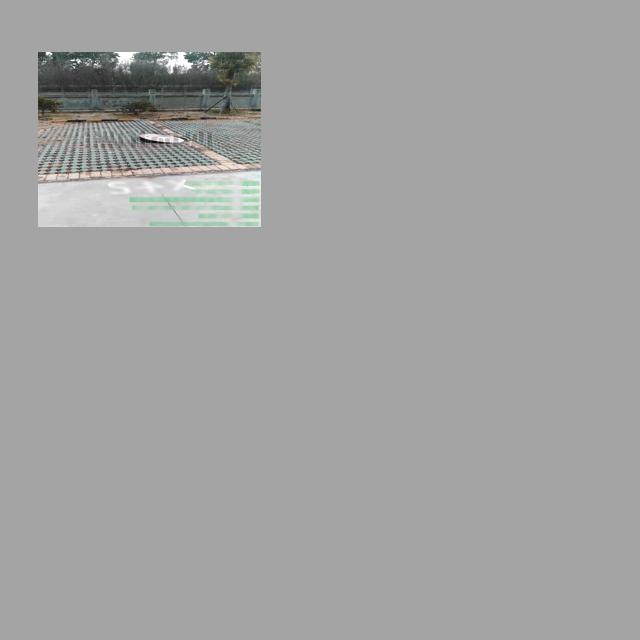uncovered: (136, 133, 191, 144)
